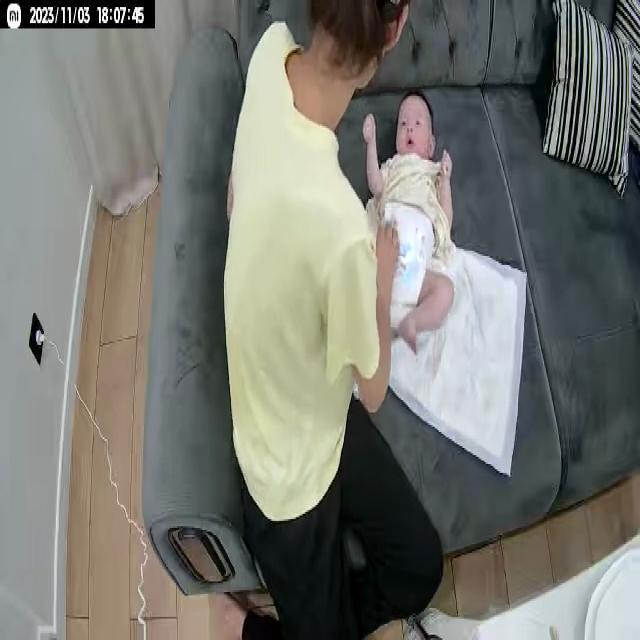baby: (354, 88, 464, 352)
